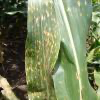Corn leaf blight: (26, 0, 60, 99), (57, 1, 91, 100)
